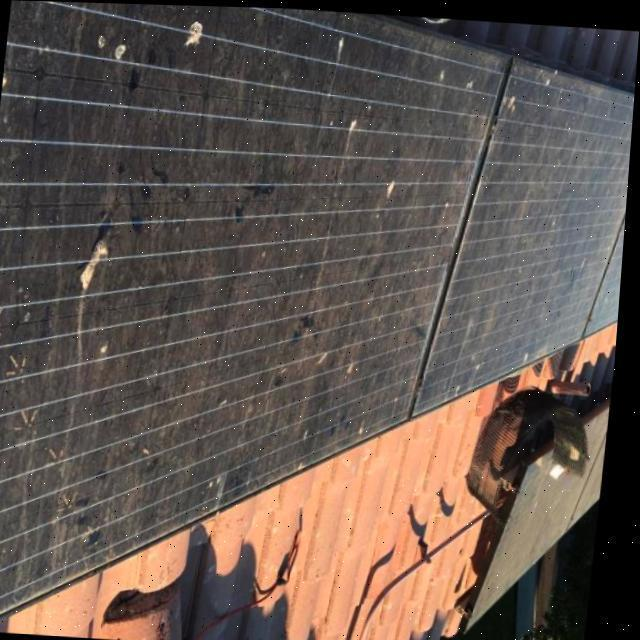Surface Contaminant: (0, 0, 518, 640), (415, 48, 638, 426)
